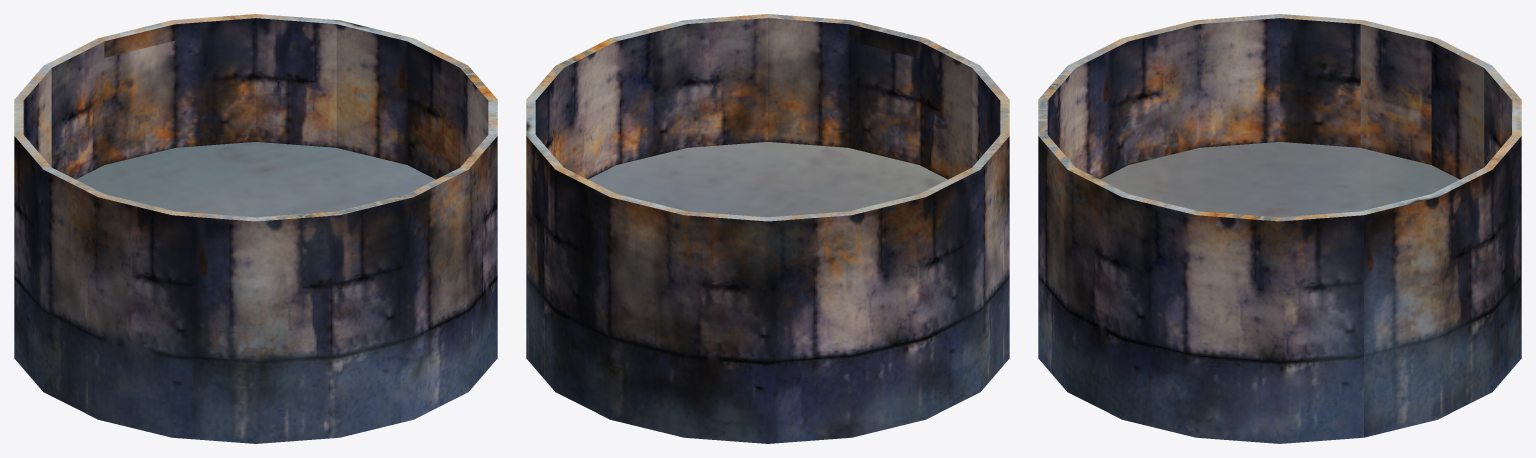
The model's file is Vat without bridge 1.FBX.
3 renders of one model, left to right at view 1: azimuth 30°, elevation 25°; view 2: azimuth 150°, elevation 25°; view 3: azimuth 270°, elevation 25°, orthographic.
Visible parts, largest first — view 1: Cylinder001; view 2: Cylinder001; view 3: Cylinder001.
Boxes of the visible parts, <box> form: Cylinder001: <box>14,14,497,443</box>; Cylinder001: <box>526,14,1009,443</box>; Cylinder001: <box>1038,14,1521,443</box>.
Size of the model in its own units: 400 by 200 by 394.
1 material, 1 textured.
